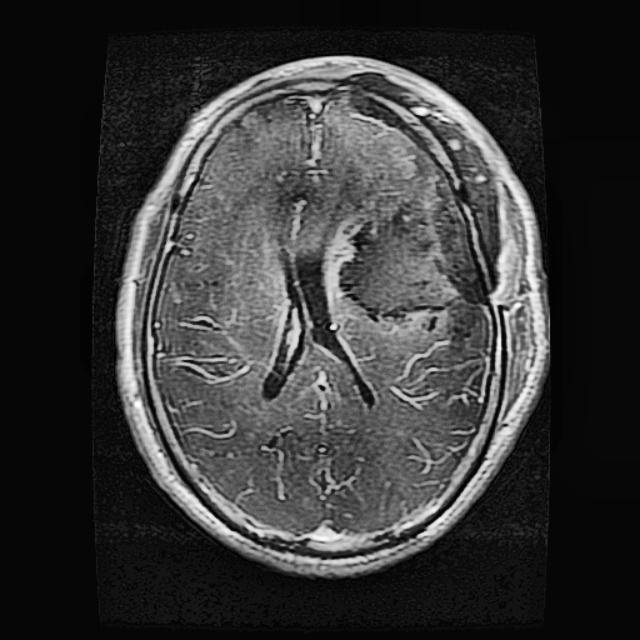Pituitary: (338, 152, 484, 317)
